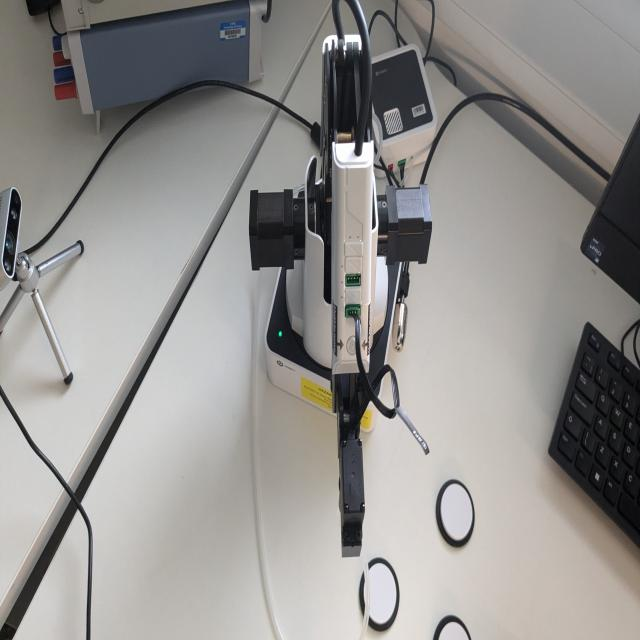Robot-end-effector-HF8z: (332, 436, 372, 564)
